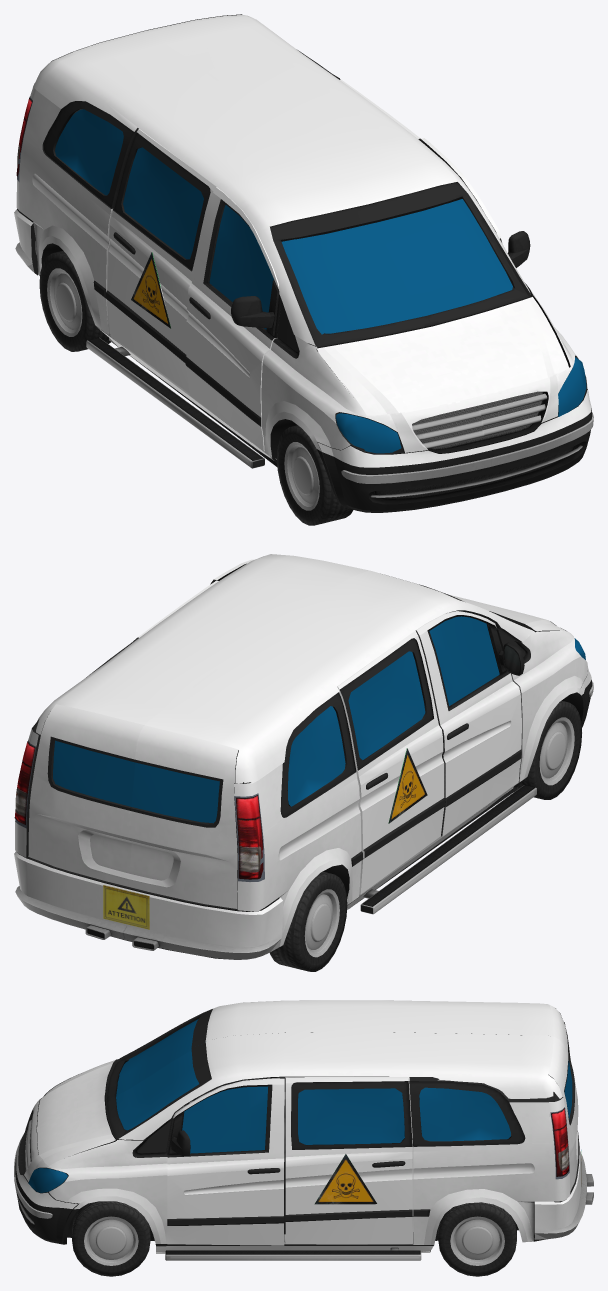
The model's file is Car36.fbx.
3 views of the same model, one above another, from view 1: azimuth 30°, elevation 25°; view 2: azimuth 150°, elevation 25°; view 3: azimuth 270°, elevation 25° (orthographic). The views are drawn at different scales.
Parts seen in each view (by area): view 1: DC3_Van_1_Roof, DC3_Van_1_Body, DC3_Van_1_Glass_F, DC3_Van_1_Hood, DC3_Van_1_Bumper_F_1, Door, DC3_Van_1_Door_BL_1, DC3_Van_1_Glass_BL_1, DC3_Van_1_Sidepanel_R_3, Side_Glass_, DC3_Van_1_Glass_RL_1, Tire_1 (+8 smaller); view 2: DC3_Van_1_Roof, DC3_Van_1_Trunk, DC3_Van_1_Body, DC3_Van_1_Door_BL_1, DC3_Van_1_Bumper_B_1, Door, DC3_Van_1_Glass_B, DC3_Van_1_Glass_BL_1, Side_Glass_, DC3_Van_1_Sidepanel_R_3, DC3_Van_1_Glass_RL_1, Tire (+8 smaller); view 3: DC3_Van_1_Roof, DC3_Van_1_Body, DC3_Van_1_Door_BL, Door__1_, DC3_Van_1_Glass_BL, DC3_Van_1_Hood, DC3_Van_1_Glass_F, Side_Glass__1, DC3_Van_1_Sidepanel_L_3, DC3_Van_1_Glass_RL, Tire_3, Tire_2 (+9 smaller).
Part boxes in pixels (left/top/right/bottom): DC3_Van_1_Roof: left=33, top=14, right=530, bottom=347; DC3_Van_1_Body: left=16, top=50, right=587, bottom=512; DC3_Van_1_Glass_F: left=281, top=199, right=512, bottom=334; DC3_Van_1_Hood: left=316, top=297, right=568, bottom=415; DC3_Van_1_Bumper_F_1: left=318, top=390, right=593, bottom=512; Door: left=185, top=187, right=281, bottom=451; DC3_Van_1_Door_BL_1: left=106, top=129, right=216, bottom=392; DC3_Van_1_Glass_BL_1: left=123, top=147, right=203, bottom=259; DC3_Van_1_Sidepanel_R_3: left=86, top=327, right=276, bottom=468; Side_Glass_: left=209, top=205, right=273, bottom=329; DC3_Van_1_Glass_RL_1: left=55, top=109, right=123, bottom=195; Tire_1: left=277, top=425, right=353, bottom=525; DC3_Van_1_Roof: left=36, top=554, right=532, bottom=784; DC3_Van_1_Trunk: left=28, top=704, right=238, bottom=908; DC3_Van_1_Body: left=15, top=611, right=587, bottom=959; DC3_Van_1_Door_BL_1: left=337, top=630, right=444, bottom=894; DC3_Van_1_Bumper_B_1: left=14, top=851, right=282, bottom=959; Door: left=415, top=611, right=521, bottom=836; DC3_Van_1_Glass_B: left=53, top=740, right=219, bottom=823; DC3_Van_1_Glass_BL_1: left=348, top=651, right=425, bottom=759; Side_Glass_: left=429, top=616, right=499, bottom=705; DC3_Van_1_Sidepanel_R_3: left=347, top=785, right=536, bottom=914; DC3_Van_1_Glass_RL_1: left=288, top=706, right=345, bottom=806; Tire: left=270, top=871, right=347, bottom=971; DC3_Van_1_Roof: left=118, top=1000, right=562, bottom=1139; DC3_Van_1_Body: left=18, top=1022, right=579, bottom=1251; DC3_Van_1_Door_BL: left=285, top=1077, right=413, bottom=1244; Door__1_: left=167, top=1078, right=284, bottom=1245; DC3_Van_1_Glass_BL: left=298, top=1088, right=404, bottom=1144; DC3_Van_1_Hood: left=37, top=1059, right=117, bottom=1165; DC3_Van_1_Glass_F: left=116, top=1019, right=199, bottom=1130; Side_Glass__1: left=182, top=1086, right=268, bottom=1153; DC3_Van_1_Sidepanel_L_3: left=156, top=1245, right=433, bottom=1260; DC3_Van_1_Glass_RL: left=419, top=1087, right=510, bottom=1141; Tire_3: left=72, top=1201, right=150, bottom=1276; Tire_2: left=438, top=1202, right=516, bottom=1276.
Bounding box in the file's own units: 316 × 260 × 695.
